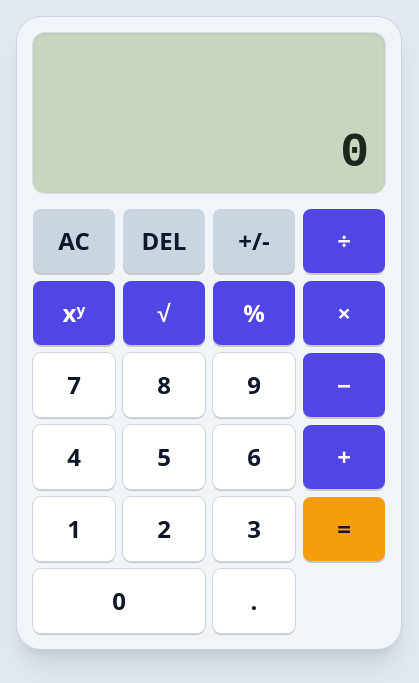
Calculator › evaluates a binary operation from button clicks
Click the button "8": [164, 385] box [123,353,205,417]
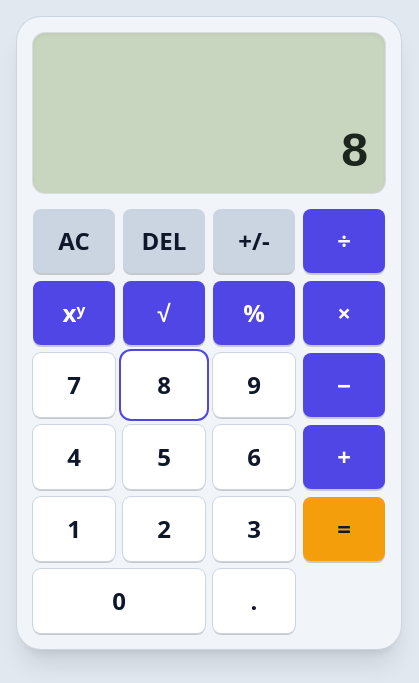
Click the button named "Add": [344, 457] box [303,425,385,489]
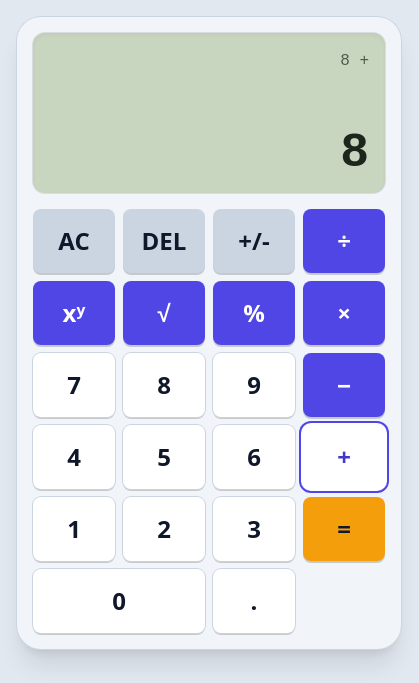
Click the button "4": [74, 457] box [33,425,115,489]
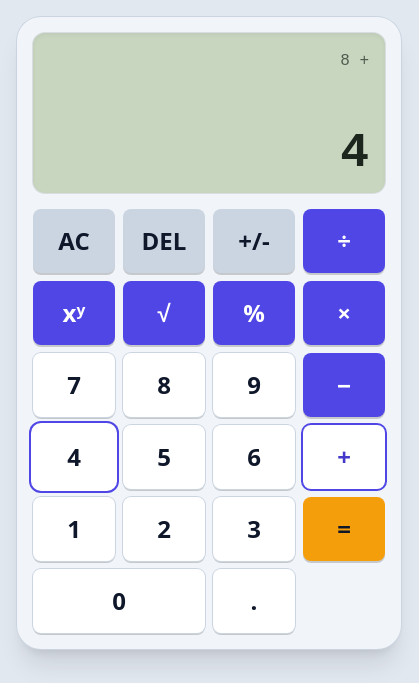
Click the button named "Equals": [344, 529] box [303,497,385,561]
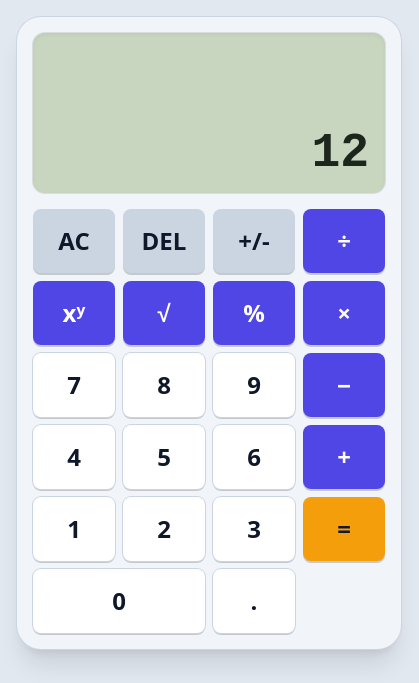
Now the text "12" is shown, box [311,126,369,180]
